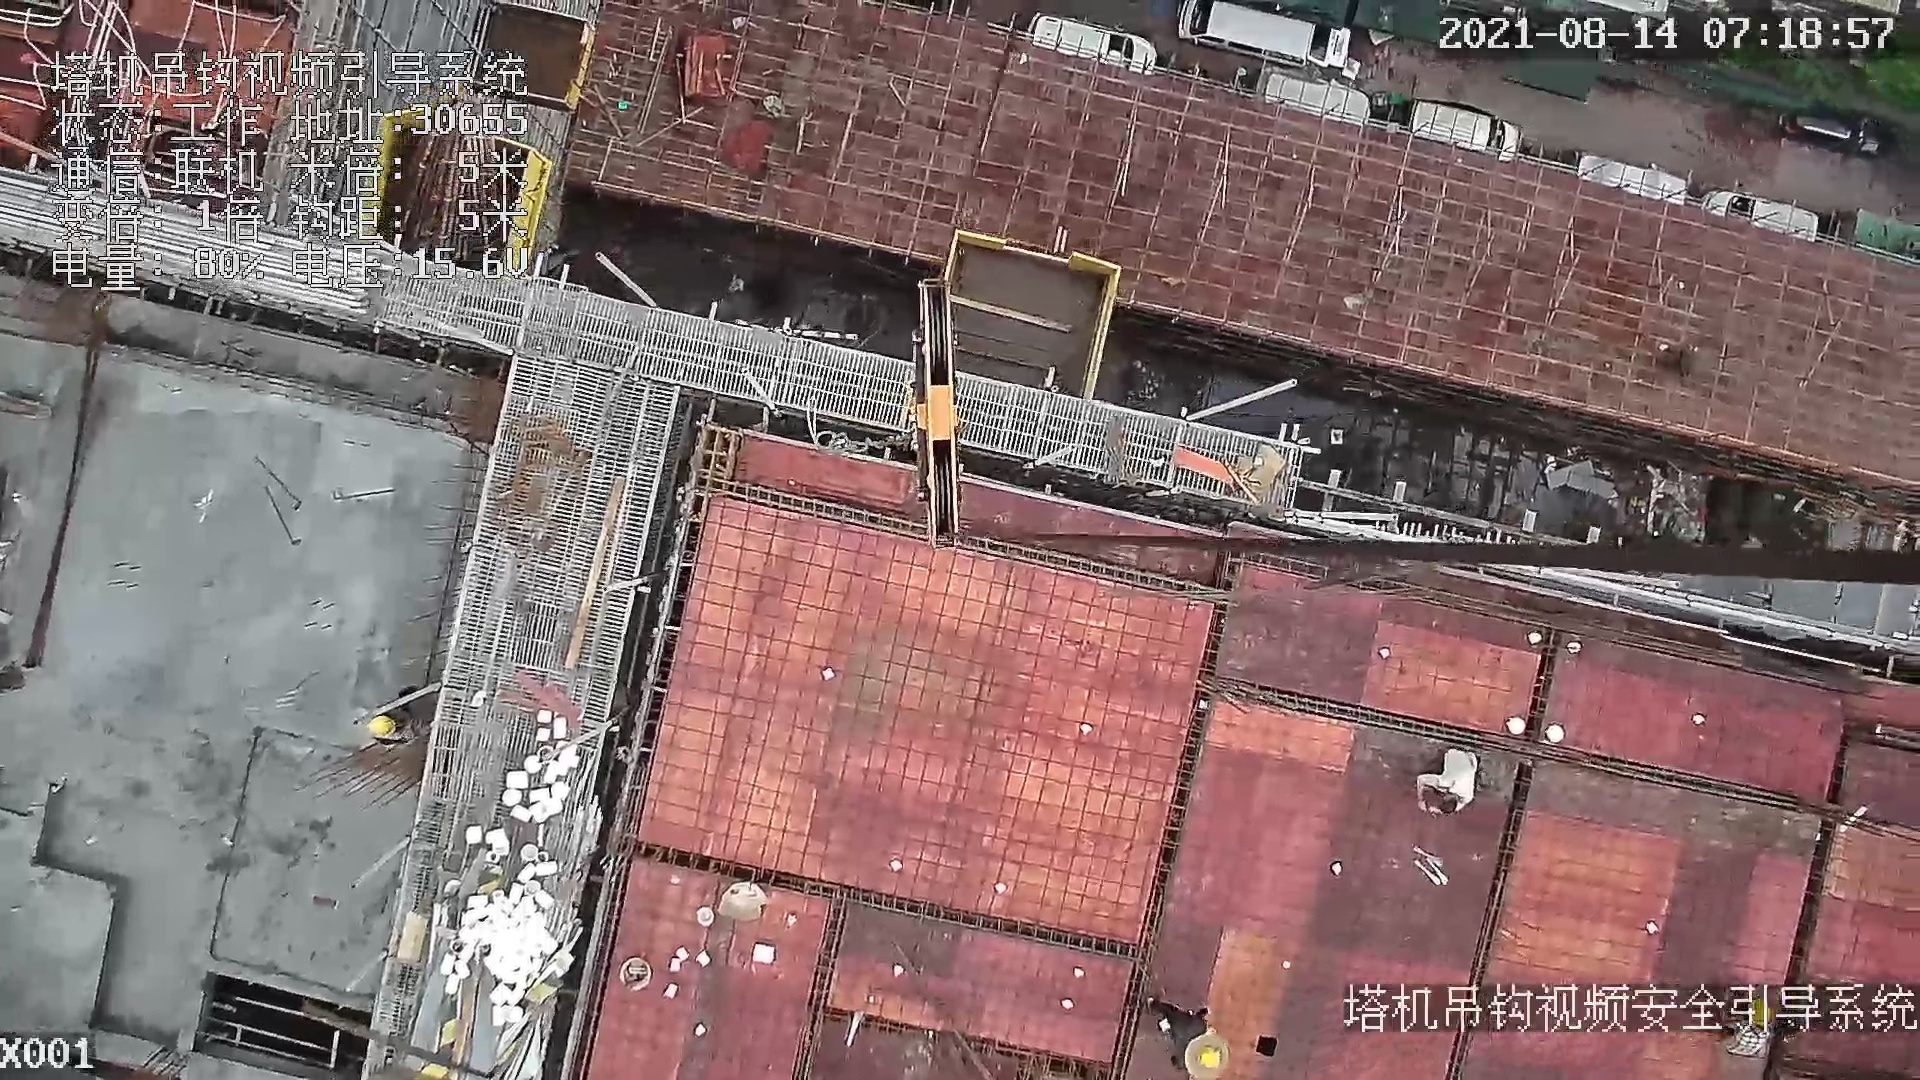helmet: (1199, 1042, 1229, 1074), (362, 713, 399, 734)
hook: (890, 273, 983, 555)
person: (1137, 986, 1253, 1080), (340, 676, 447, 741), (1400, 745, 1481, 809)
